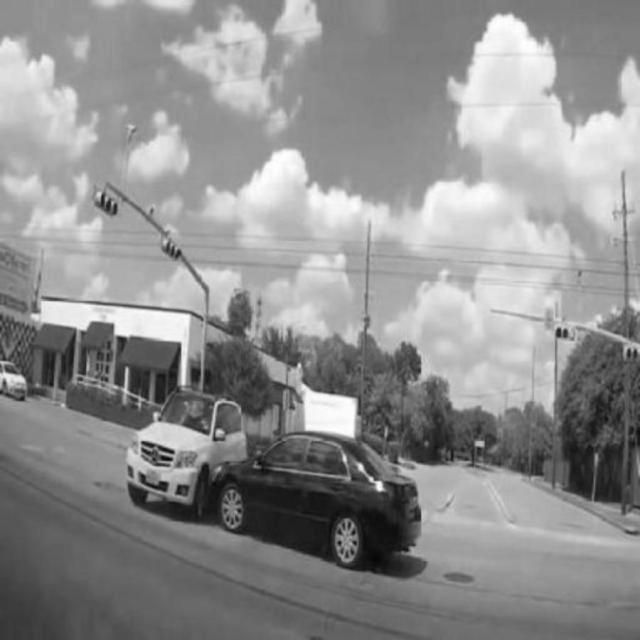accident: (131, 384, 419, 562)
